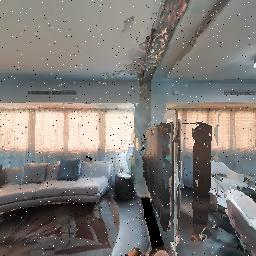sofa: (0, 150, 110, 221)
